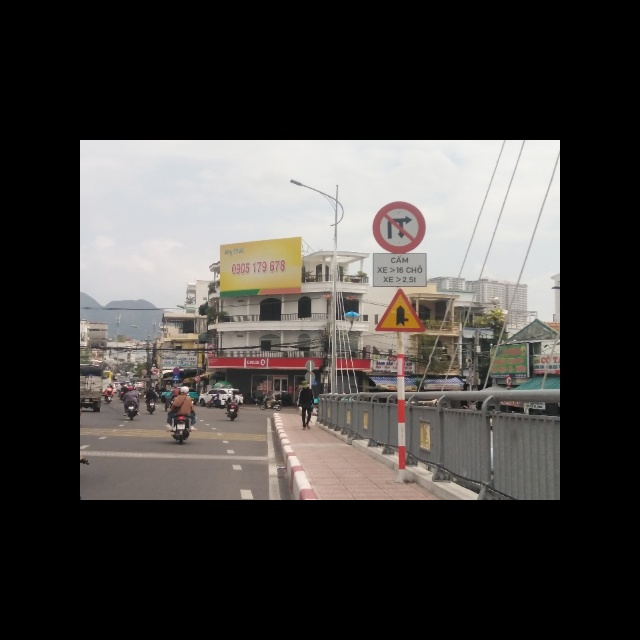Cấm quay đầu và rẽ phải: (371, 199, 423, 252)
Giao nhau với đường không ưu tiên: (374, 287, 423, 333)
